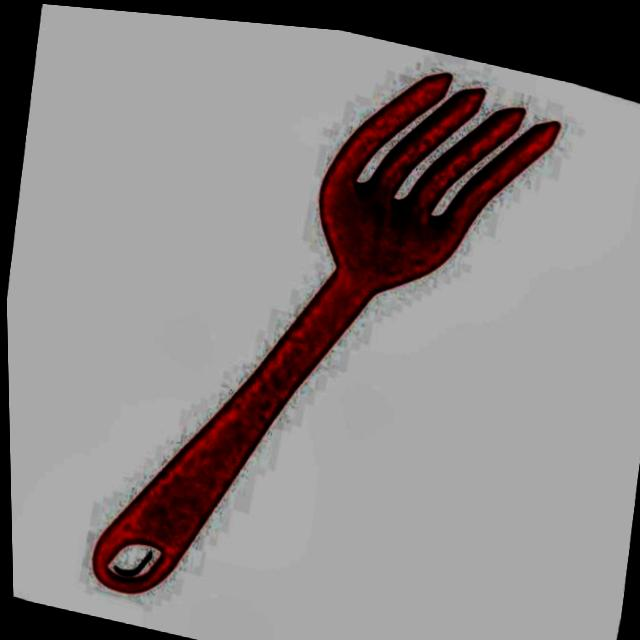Fork: (93, 74, 558, 592)
